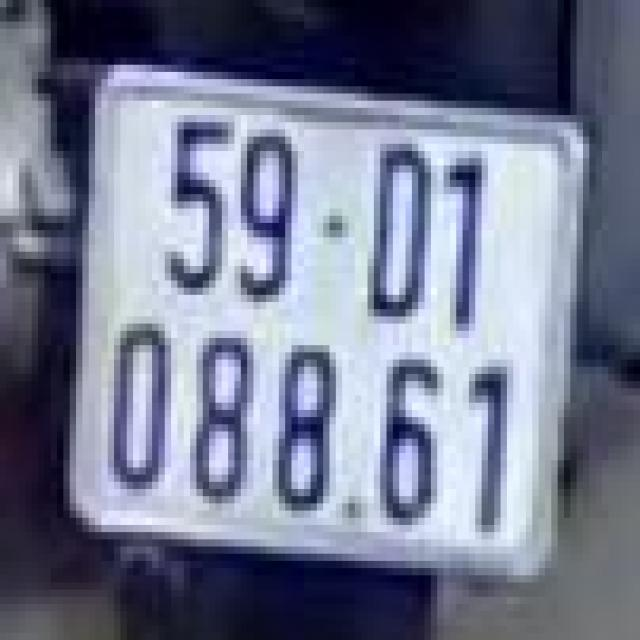0: (104, 316, 168, 489)
1: (466, 356, 523, 550), (444, 137, 494, 338)
5: (152, 104, 235, 306)
6: (364, 338, 453, 532)
8: (263, 327, 339, 529), (187, 330, 263, 510)
9: (241, 118, 304, 306)
D: (355, 119, 431, 327)
